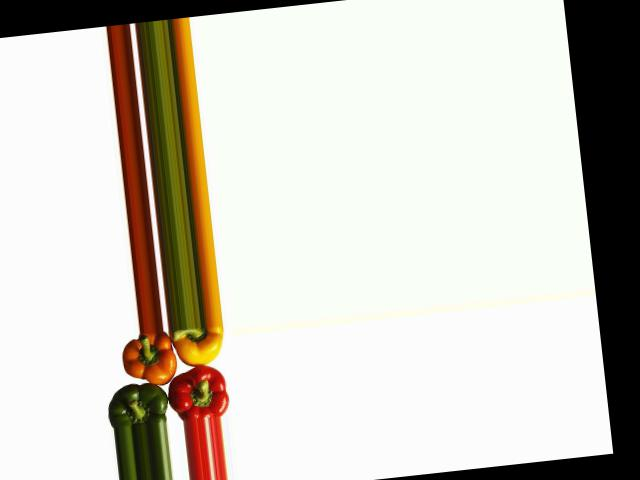bell_pepper: (166, 323, 228, 371)
